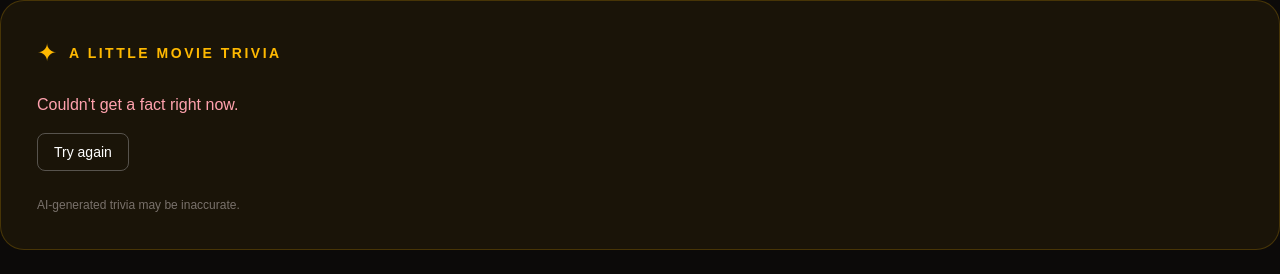
Test: shows an error and retries fact generation on demand
The image size is (1280, 274).
expect the text "Couldn't get a fact right now." is shown: met, box [37, 96, 238, 113]
Click the button "Try again". click: click(83, 152)
box: [37, 133, 129, 171]
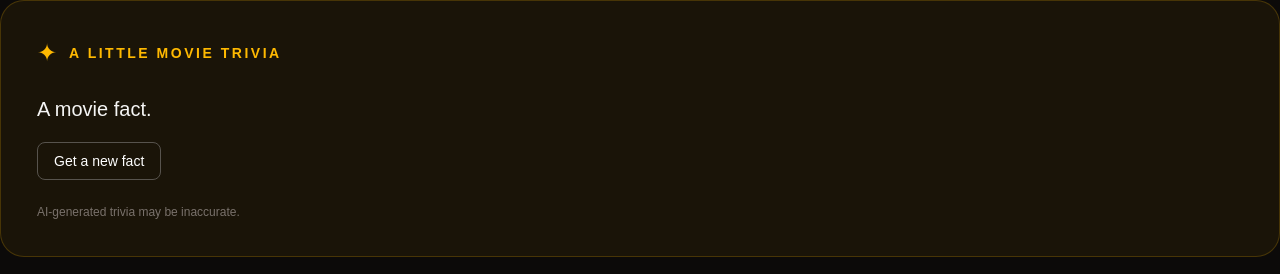
expect the text "A movie fact." is shown: met, box [37, 98, 152, 120]
